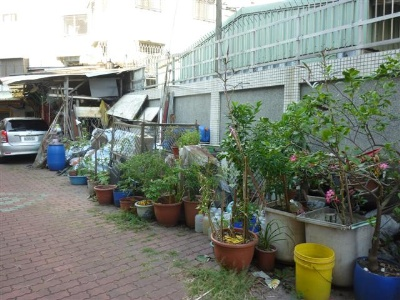bucket: (293, 242, 336, 300), (46, 142, 67, 171)
